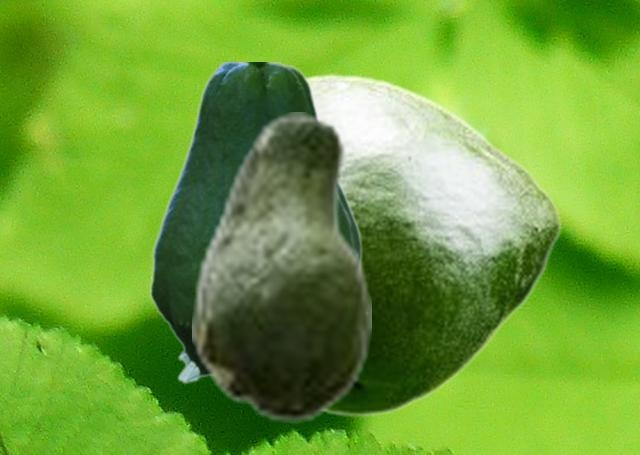sayote: (306, 73, 561, 416), (149, 62, 365, 386), (192, 112, 370, 423)
